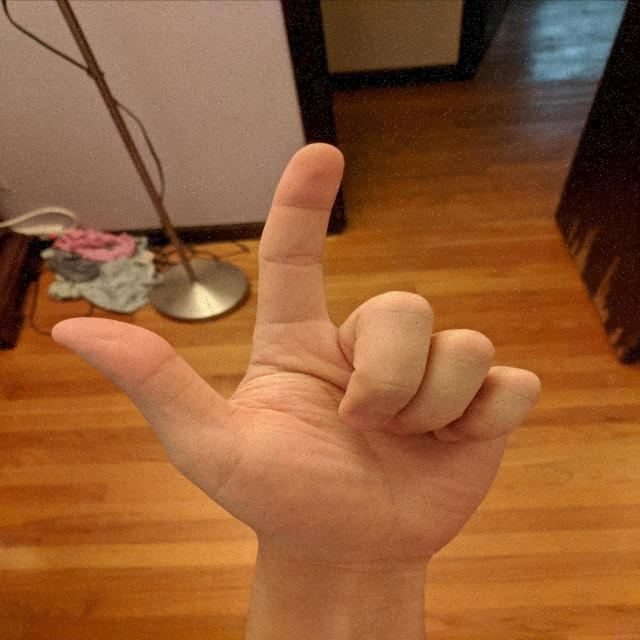L: (44, 138, 551, 566)
